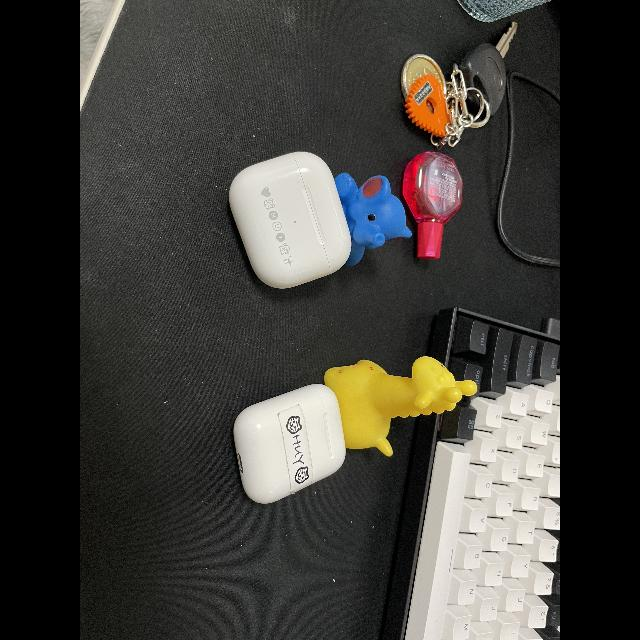airpod2: (225, 376, 352, 510)
airpod3: (221, 140, 363, 292)
